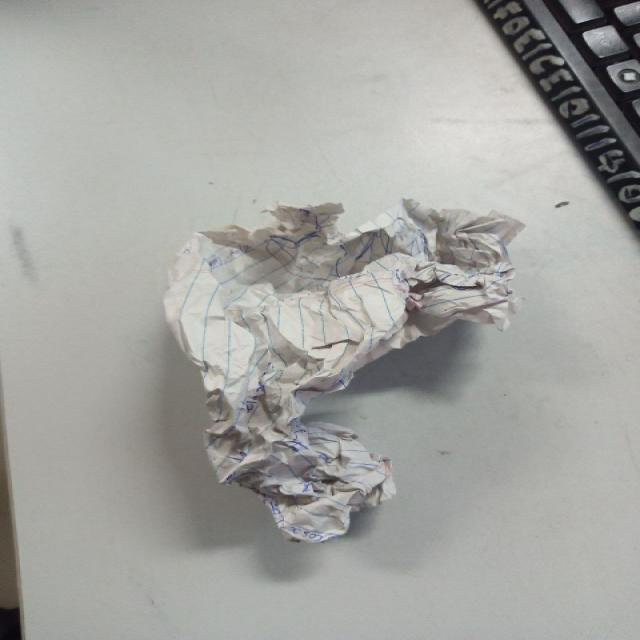Paper: (161, 198, 523, 544)
